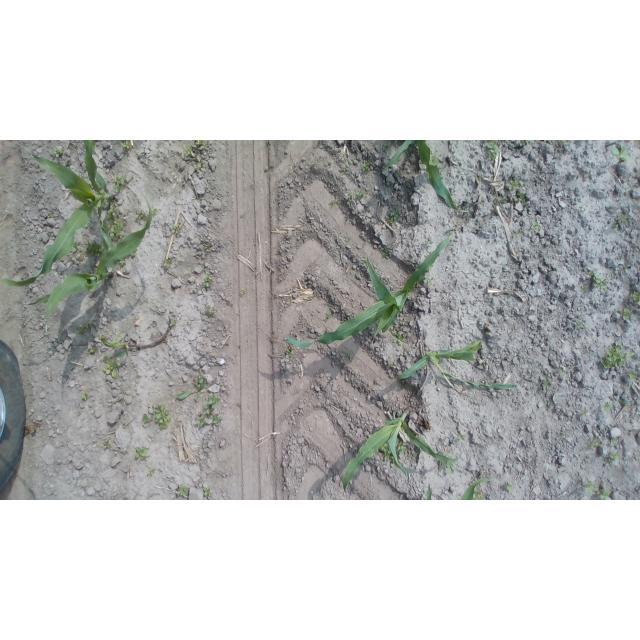Maize: (289, 232, 456, 348), (1, 141, 117, 288), (21, 197, 153, 326), (340, 408, 461, 493), (395, 338, 518, 390), (382, 141, 468, 215), (424, 477, 493, 499)
Weeds: (599, 340, 636, 370), (194, 395, 222, 430), (103, 202, 125, 243), (142, 402, 172, 431), (177, 373, 207, 401), (98, 334, 130, 359), (589, 269, 609, 293), (103, 356, 122, 379), (76, 320, 96, 337), (344, 188, 369, 201), (611, 144, 629, 162), (380, 442, 396, 462), (487, 140, 502, 160), (113, 172, 128, 192), (614, 214, 630, 231), (391, 329, 407, 346), (201, 272, 216, 289), (386, 209, 401, 225), (395, 437, 409, 453), (135, 447, 150, 461), (176, 483, 190, 498), (584, 478, 596, 495), (541, 377, 553, 393), (194, 140, 212, 150), (620, 307, 632, 321), (206, 306, 219, 318), (588, 439, 602, 450), (120, 140, 135, 150), (514, 192, 526, 204), (627, 369, 638, 382), (361, 160, 372, 173), (509, 178, 520, 191), (472, 491, 487, 500), (513, 229, 524, 241), (53, 147, 66, 157), (608, 452, 621, 462), (600, 402, 613, 412), (182, 145, 193, 156), (599, 490, 611, 500), (630, 290, 638, 304), (380, 248, 390, 259), (203, 487, 212, 498), (504, 482, 513, 492), (172, 224, 181, 234), (497, 194, 507, 203), (530, 221, 539, 231), (285, 347, 293, 358), (134, 210, 143, 219), (195, 161, 202, 172), (147, 468, 156, 476), (427, 278, 435, 287), (610, 437, 618, 446), (343, 235, 350, 245), (581, 408, 588, 418), (423, 241, 434, 247), (89, 345, 97, 353), (399, 379, 407, 387), (163, 258, 171, 266), (82, 392, 89, 401), (326, 310, 333, 318), (576, 322, 584, 329), (204, 245, 212, 252), (103, 441, 110, 449), (344, 350, 351, 357), (557, 141, 564, 148), (459, 435, 466, 442), (340, 166, 347, 172), (583, 286, 590, 292), (170, 320, 177, 326), (562, 433, 568, 440), (152, 208, 158, 215), (558, 367, 564, 373), (549, 402, 555, 408), (610, 271, 616, 277), (620, 399, 626, 405), (330, 200, 337, 205), (47, 214, 54, 219), (131, 251, 136, 258)
